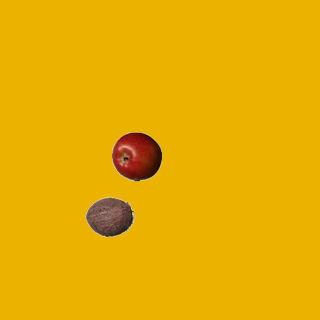Apple Braeburn: (111, 131, 161, 181)
Cocos: (84, 191, 134, 241)
